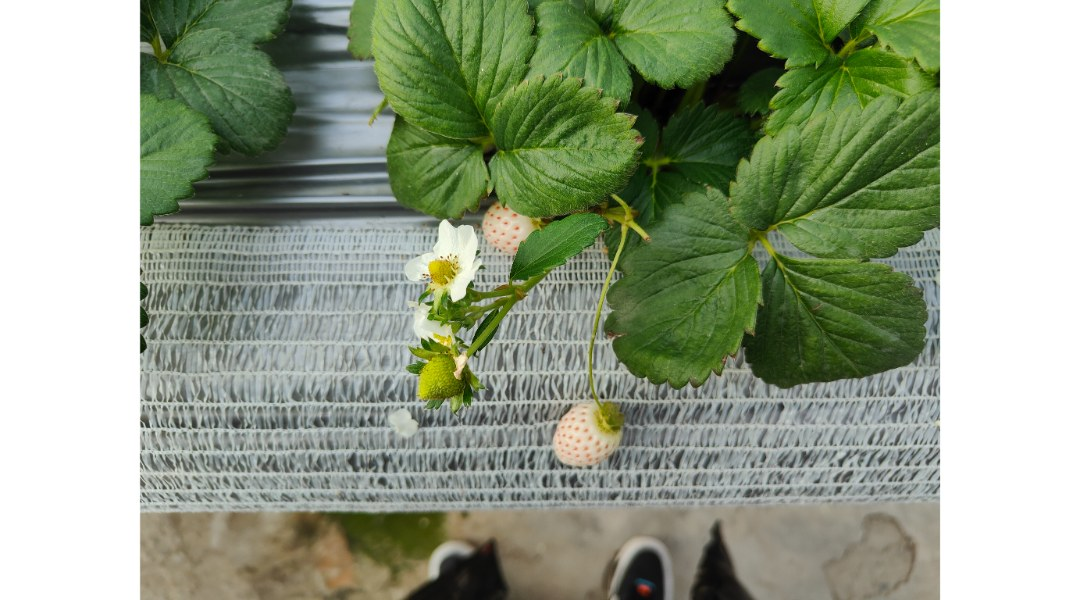berry: (394, 337, 482, 410), (547, 402, 629, 468), (471, 210, 542, 246)
flower: (395, 220, 485, 308), (406, 299, 457, 347)
strain: (581, 229, 629, 407), (472, 325, 511, 350)
